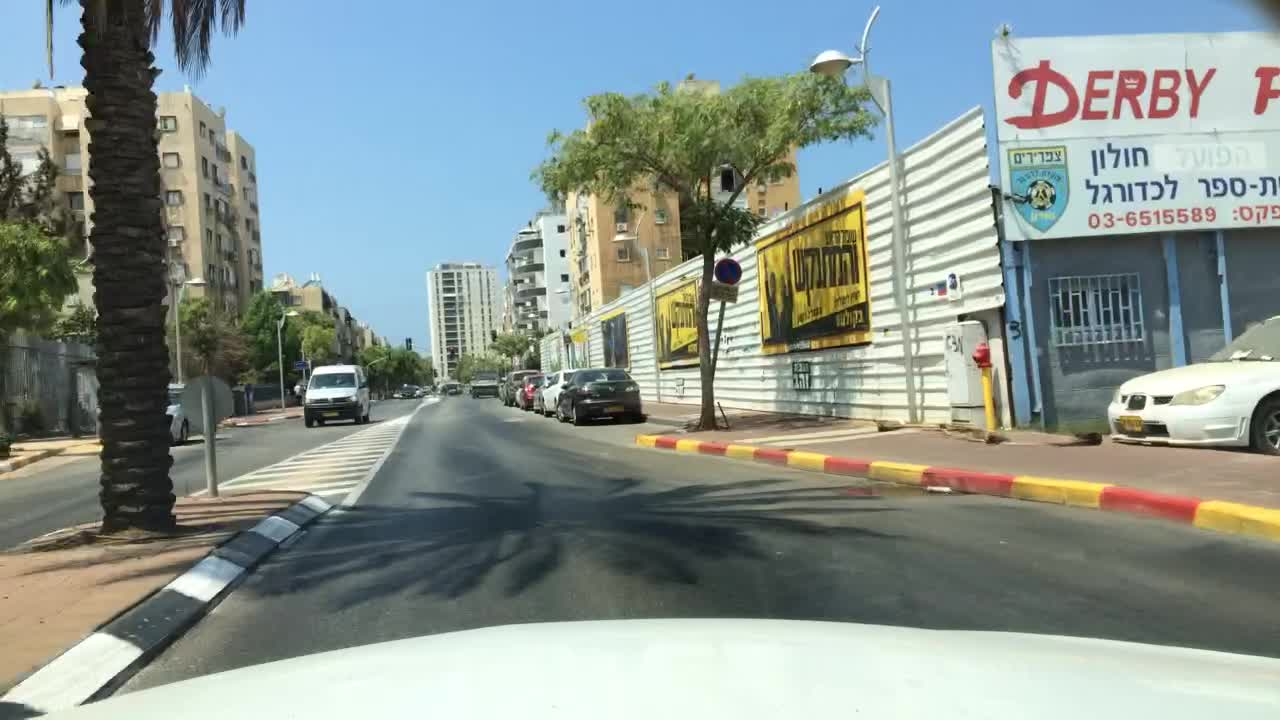car: (1105, 316, 1278, 457), (551, 370, 646, 426), (304, 361, 371, 426), (497, 369, 541, 406), (541, 373, 566, 415), (167, 400, 190, 444), (514, 379, 537, 406), (529, 385, 551, 410), (446, 386, 460, 396), (401, 388, 411, 399), (415, 388, 421, 400)
person: (293, 385, 303, 406)
traffic light: (406, 336, 411, 351)
traffic sign: (704, 281, 739, 304), (713, 257, 741, 285)
truck: (471, 374, 496, 400)
